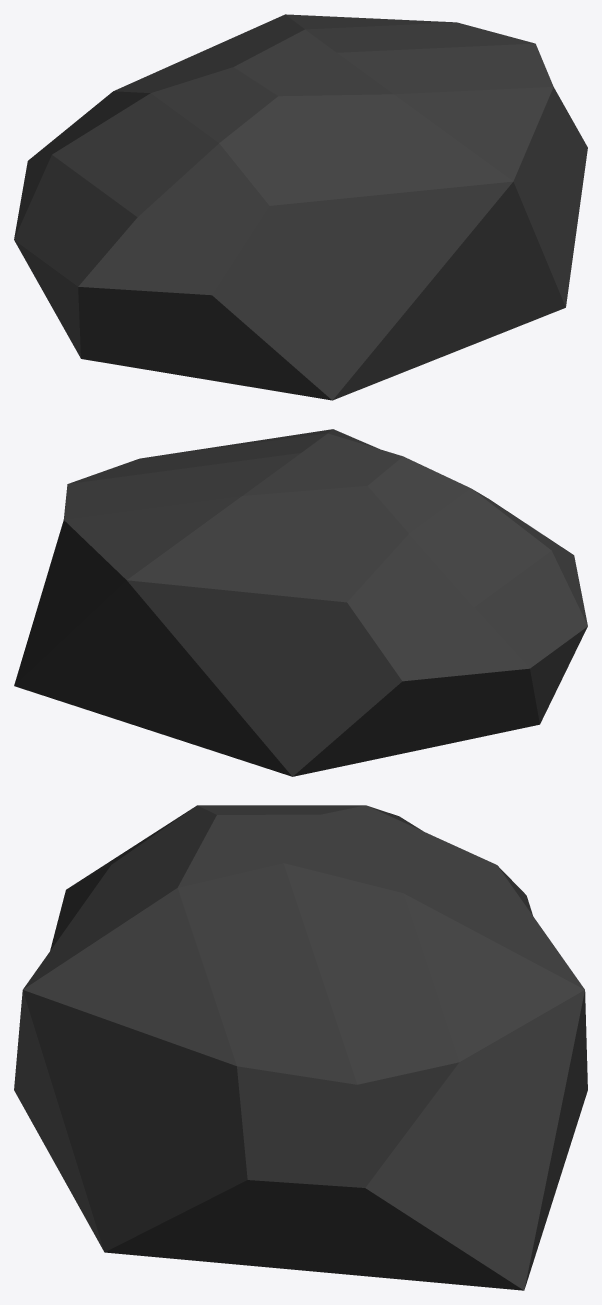
File: RockB.fbx
The picture shows the model from 3 angles, top to bottom: view 1: azimuth 30°, elevation 25°; view 2: azimuth 150°, elevation 25°; view 3: azimuth 270°, elevation 25°; orthographic projection. The views are drawn at different scales.
Parts seen in each view (by area): view 1: Rock2; view 2: Rock2; view 3: Rock2.
Boxes of the visible parts, box(x1,y1,x2,y2) form: Rock2: box(14, 14, 587, 400); Rock2: box(14, 429, 587, 776); Rock2: box(14, 805, 587, 1290).
Size of the model in its own units: 74.45 by 32.55 by 57.31.
Materials: 1 (1 with a texture image).
